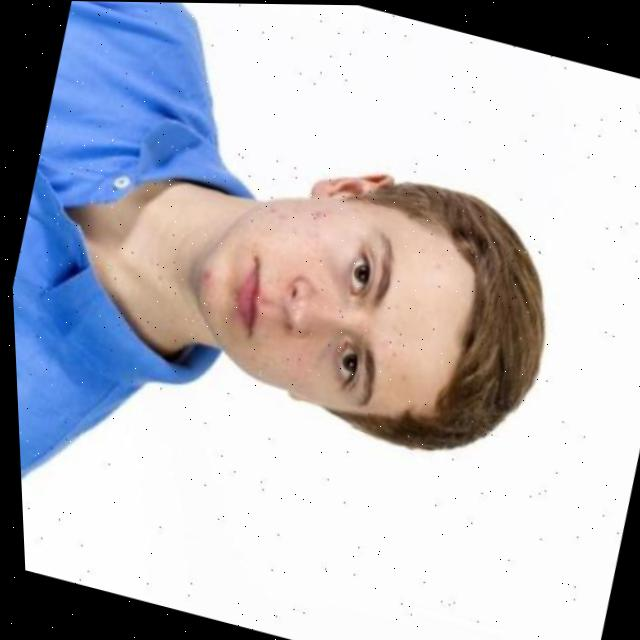Acne: (219, 206, 446, 403)
